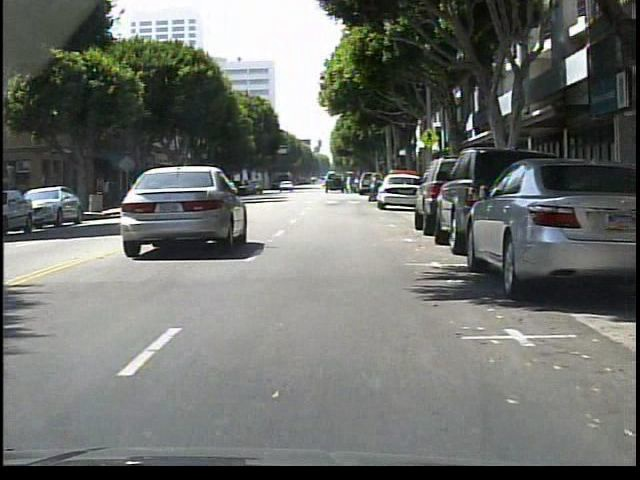person: (364, 173, 379, 204), (102, 176, 114, 208), (350, 172, 351, 193)
